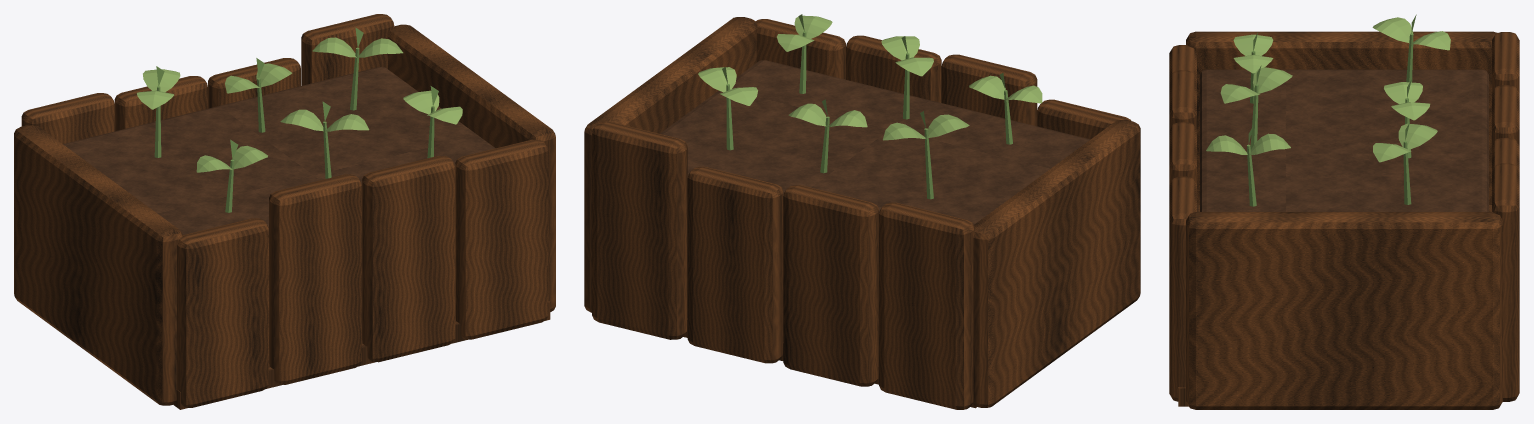
The model's file is planter-seedling.glb.
3 views of the same model, side by side, from view 1: azimuth 30°, elevation 25°; view 2: azimuth 150°, elevation 25°; view 3: azimuth 270°, elevation 25° (orthographic). The views are drawn at different scales.
Visible parts, largest first — view 1: GEO-PlanterV2-Wood.001, GEO-PlanterV2-Soil.001, GEO-Seedling-PlantGreenLight, GEO-Seedling-PlantGreen; view 2: GEO-PlanterV2-Wood.001, GEO-PlanterV2-Soil.001, GEO-Seedling-PlantGreenLight, GEO-Seedling-PlantGreen; view 3: GEO-PlanterV2-Wood.001, GEO-PlanterV2-Soil.001, GEO-Seedling-PlantGreenLight, GEO-Seedling-PlantGreen.
Boxes of the visible parts, <box> form: GEO-PlanterV2-Wood.001: <box>14,14,555,409</box>; GEO-PlanterV2-Soil.001: <box>63,67,495,236</box>; GEO-Seedling-PlantGreenLight: <box>137,37,462,172</box>; GEO-Seedling-PlantGreen: <box>154,27,438,212</box>; GEO-PlanterV2-Wood.001: <box>584,17,1140,409</box>; GEO-PlanterV2-Soil.001: <box>660,60,1090,224</box>; GEO-Seedling-PlantGreenLight: <box>698,15,1042,140</box>; GEO-Seedling-PlantGreen: <box>722,14,1012,199</box>; GEO-PlanterV2-Wood.001: <box>1169,31,1519,409</box>; GEO-PlanterV2-Soil.001: <box>1200,69,1488,211</box>; GEO-Seedling-PlantGreenLight: <box>1206,17,1450,162</box>; GEO-Seedling-PlantGreen: <box>1247,14,1416,206</box>.
Size of the model in its own units: 1.18 by 0.678 by 0.862.
6 materials, 4 textured.
